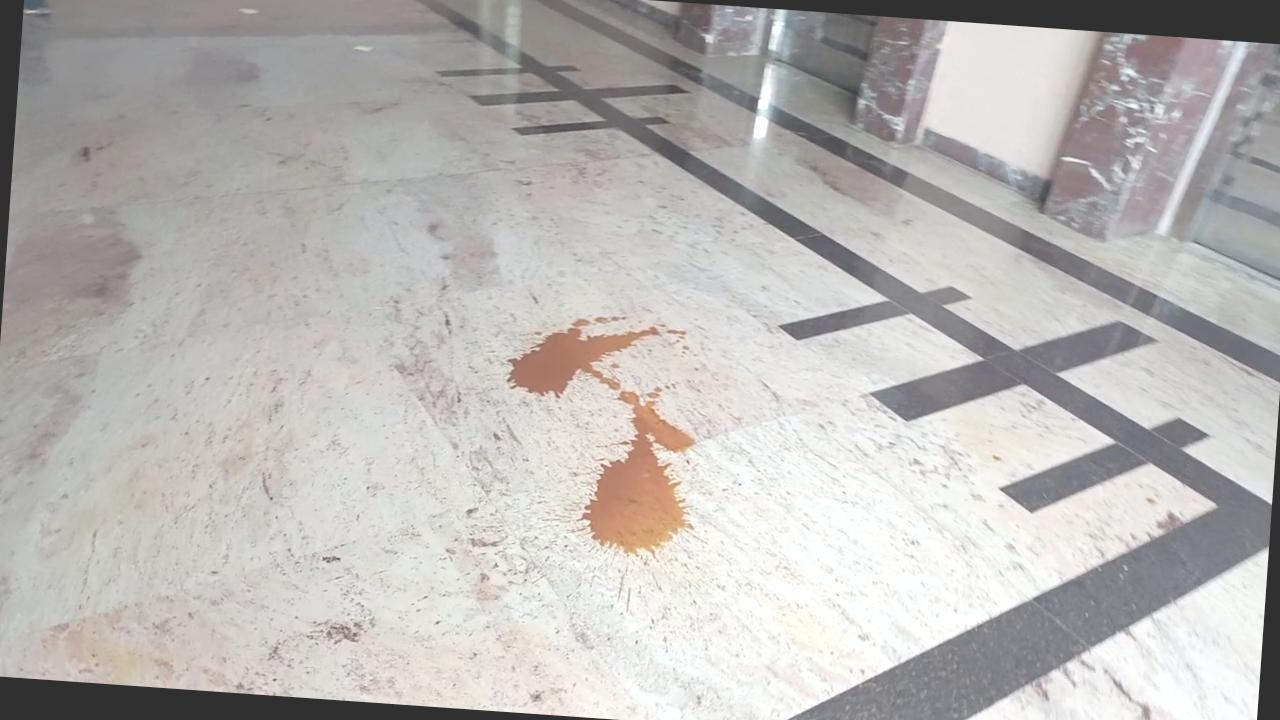dirty_floor: (497, 308, 705, 558)
